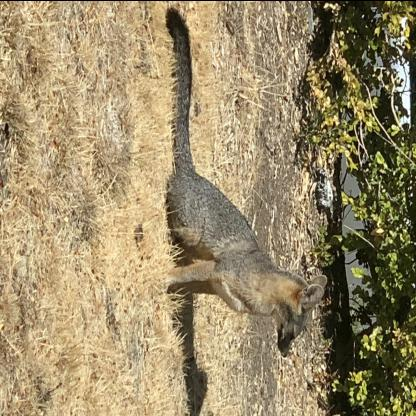zorro: (156, 0, 330, 362)
